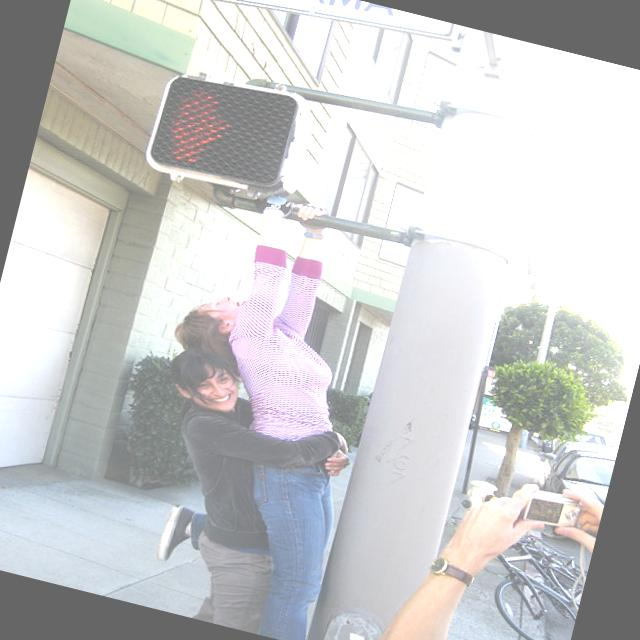Vehicle: (532, 438, 616, 536), (534, 429, 618, 489), (534, 418, 612, 468)
